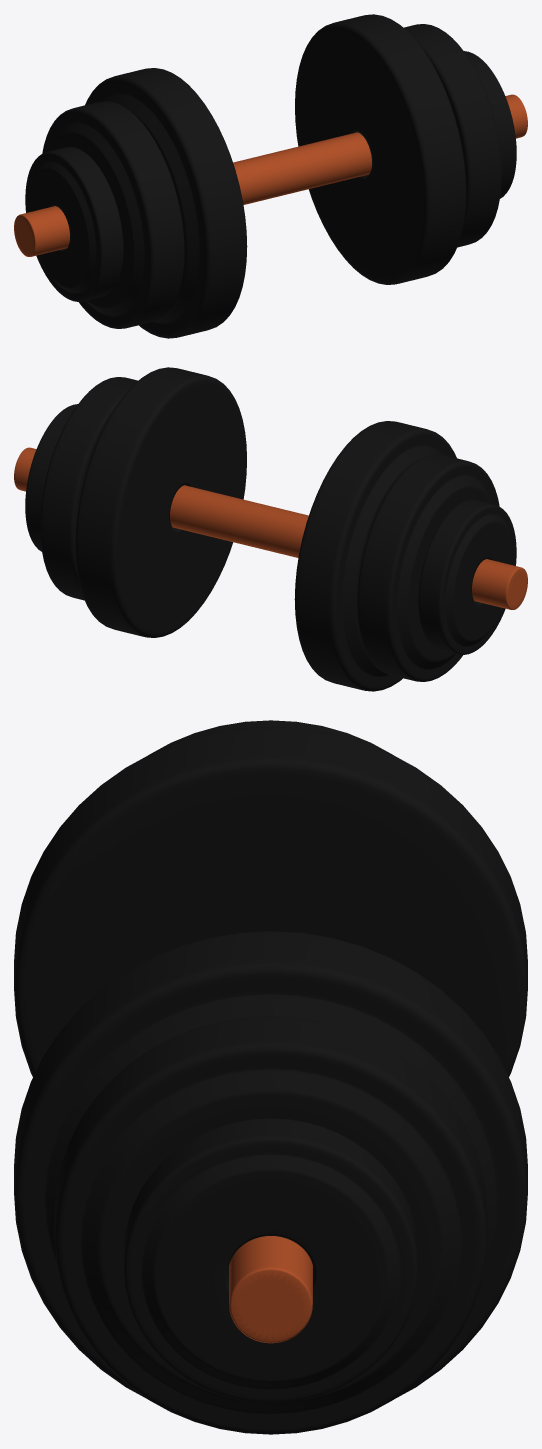
The model's file is dumbbell2.glb.
3 renders of one model, top to bottom at view 1: azimuth 30°, elevation 25°; view 2: azimuth 150°, elevation 25°; view 3: azimuth 270°, elevation 25°, orthographic. The views are drawn at different scales.
Parts seen in each view (by area): view 1: Grappler; view 2: Grappler; view 3: Grappler.
Part boxes in pixels (x1,y1,x2,y2): Grappler: (14,14,527,338); Grappler: (14,367,527,691); Grappler: (14,720,527,1434).
Bounding box in the file's own units: 2 × 0.945 × 0.945.
2 materials, 2 textured.
